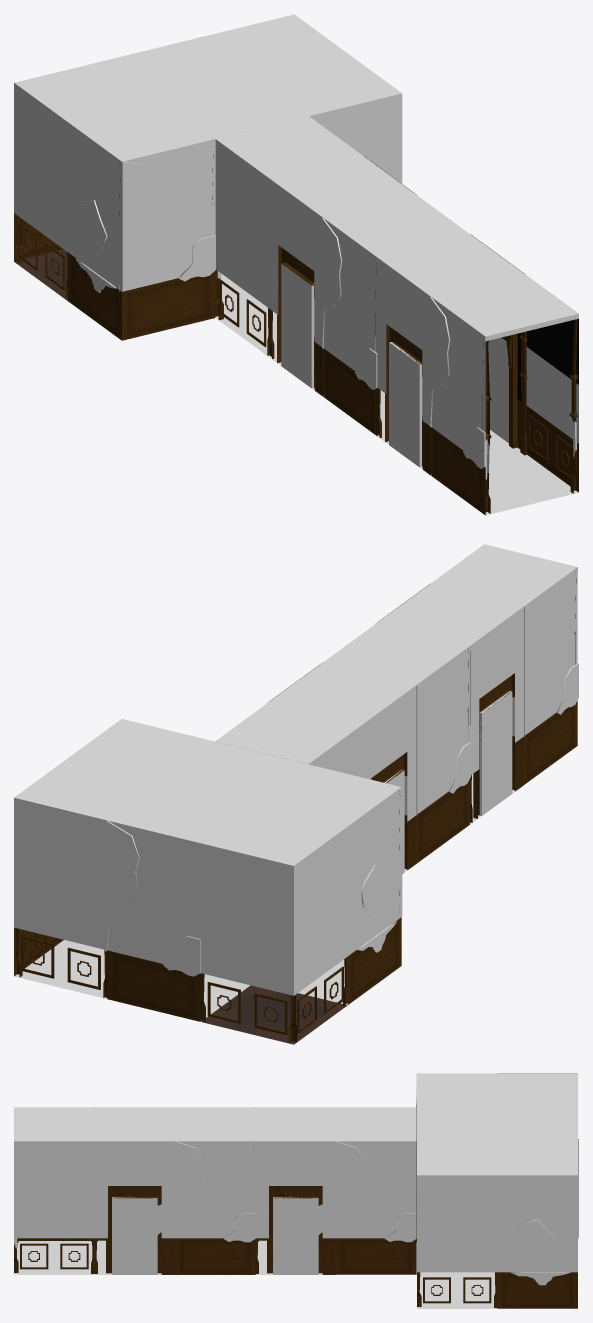
Rendered from new_room2.fbx.
3 renders of one model, top to bottom at view 1: azimuth 30°, elevation 25°; view 2: azimuth 150°, elevation 25°; view 3: azimuth 270°, elevation 25°, orthographic. The views are drawn at different scales.
Parts seen in each view (by area): view 1: Plane.083, Plane.296, Plane.290, Plane.235, Plane.298, Plane.237, Plane.315, Plane.027, Plane.273, Plane.331, Plane.334, Plane.246 (+23 smaller); view 2: Plane.242, Plane.243, Plane.241, Plane.296, Plane.235, Plane.290, Plane.237, Plane.244, Plane.262, Plane.247, Plane.027, Plane.229 (+17 smaller); view 3: Plane.295, Plane.297, Plane.238, Plane.315, Plane.240, Plane.325, Plane.318, Plane.321, Plane.329, Plane.262, Plane.273, Plane.084 (+14 smaller).
Boxes of the visible parts, <box> form: Plane.083: <box>122,139,215,340</box>; Plane.296: <box>322,218,377,436</box>; Plane.290: <box>430,297,485,515</box>; Plane.235: <box>68,122,121,340</box>; Plane.298: <box>215,139,269,347</box>; Plane.237: <box>14,83,67,290</box>; Plane.315: <box>526,318,578,492</box>; Plane.027: <box>431,274,578,341</box>; Plane.273: <box>255,54,402,119</box>; Plane.331: <box>269,179,323,396</box>; Plane.334: <box>377,258,431,475</box>; Plane.246: <box>68,99,215,161</box>; Plane.242: <box>106,820,200,1021</box>; Plane.243: <box>200,848,293,1035</box>; Plane.241: <box>14,802,106,989</box>; Plane.296: <box>416,646,471,863</box>; Plane.235: <box>347,787,401,1004</box>; Plane.290: <box>524,572,578,784</box>; Plane.237: <box>294,827,347,1034</box>; Plane.244: <box>200,804,347,870</box>; Plane.262: <box>14,758,160,824</box>; Plane.247: <box>107,781,253,847</box>; Plane.027: <box>431,544,577,606</box>; Plane.229: <box>215,702,361,764</box>; Plane.295: <box>336,1141,416,1274</box>; Plane.297: <box>175,1141,255,1274</box>; Plane.238: <box>497,1179,577,1308</box>; Plane.315: <box>14,1141,94,1269</box>; Plane.240: <box>417,1179,497,1303</box>; Plane.325: <box>255,1141,336,1274</box>; Plane.318: <box>94,1141,174,1274</box>; Plane.321: <box>112,1198,157,1274</box>; Plane.329: <box>273,1198,318,1274</box>; Plane.262: <box>497,1141,577,1178</box>; Plane.273: <box>417,1141,497,1178</box>; Plane.084: <box>175,1107,255,1144</box>.
Bounding box in the file's own units: 605 × 366 × 1403.
